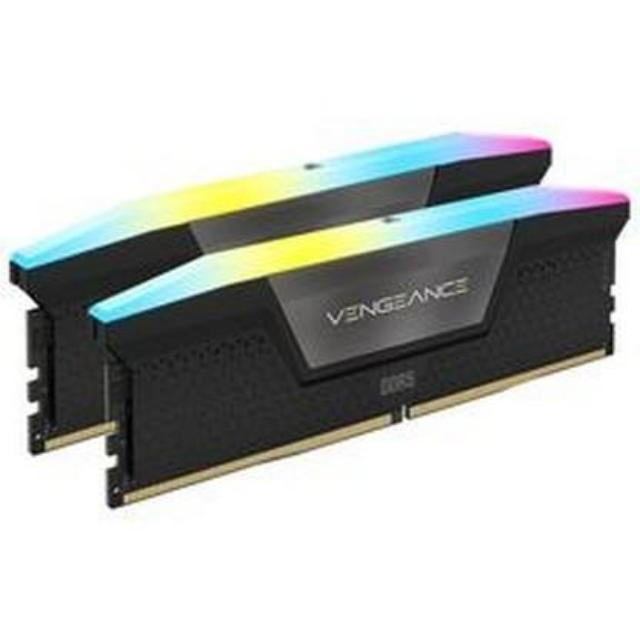RAM: (8, 124, 640, 536)
